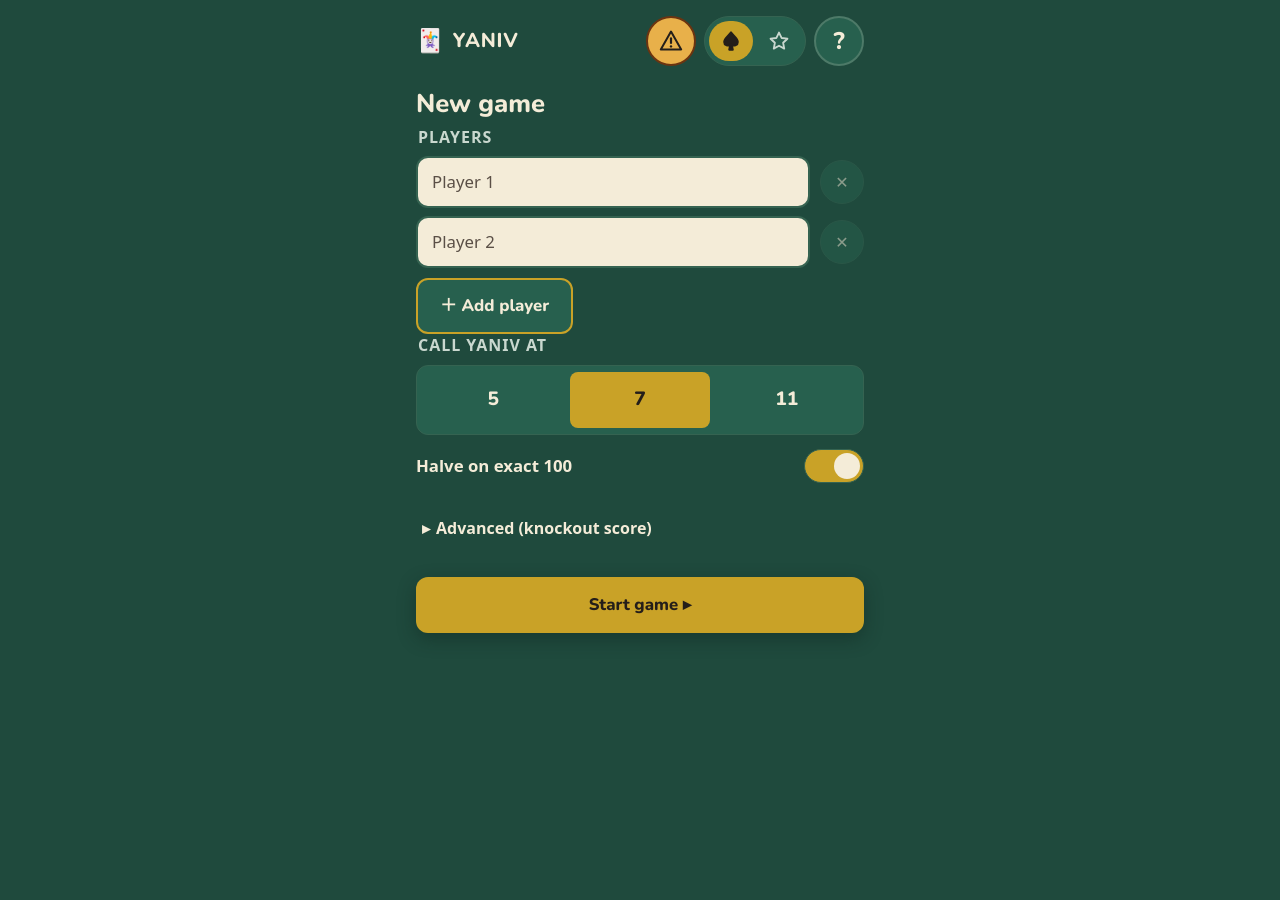
Test: Help — entry point on both screens › opens Help from the Setup screen via the "?" button
The width and height of the screenshot is (1280, 900).
Click the button named "Help" at {"x": 839, "y": 41}, box [814,16,864,66]
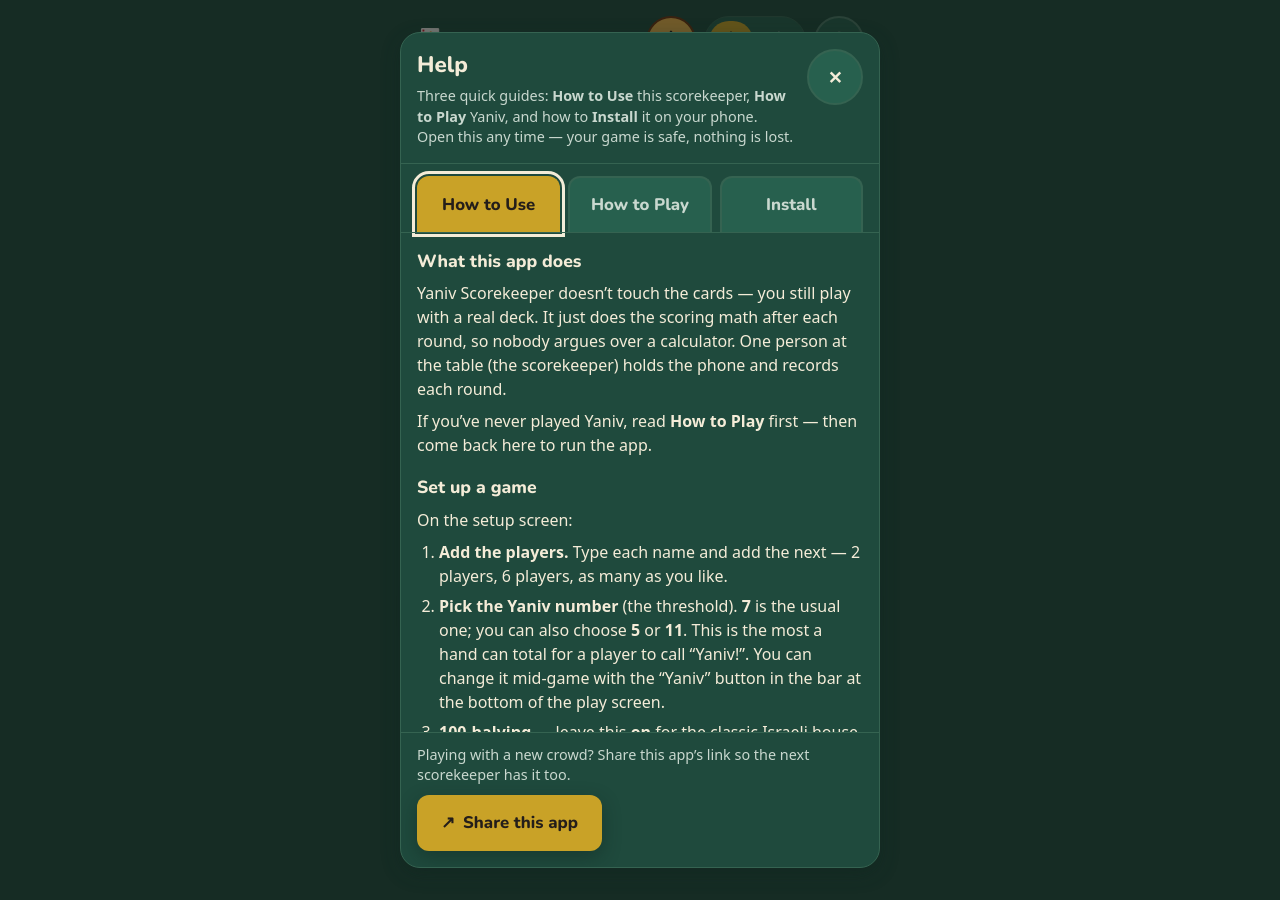
Expected: the dialog with test id "help-dialog" is shown, [400,32,880,868]
